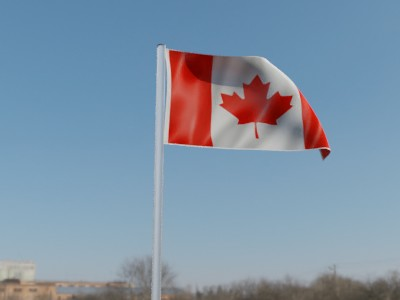Canada flag: (163, 48, 336, 163)
